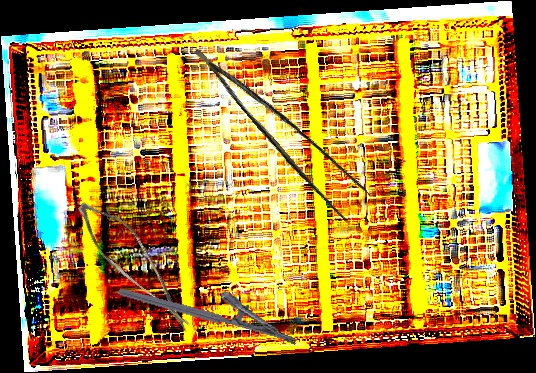Micro Scissor: (58, 194, 217, 333)
Needle Holder: (117, 262, 305, 347)
Tissue Forceps: (194, 24, 377, 231)
